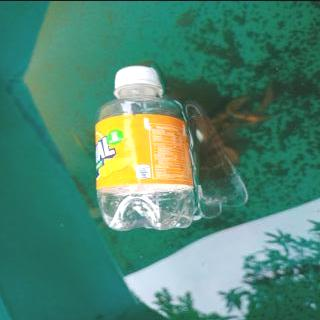bottle: (92, 63, 198, 231)
